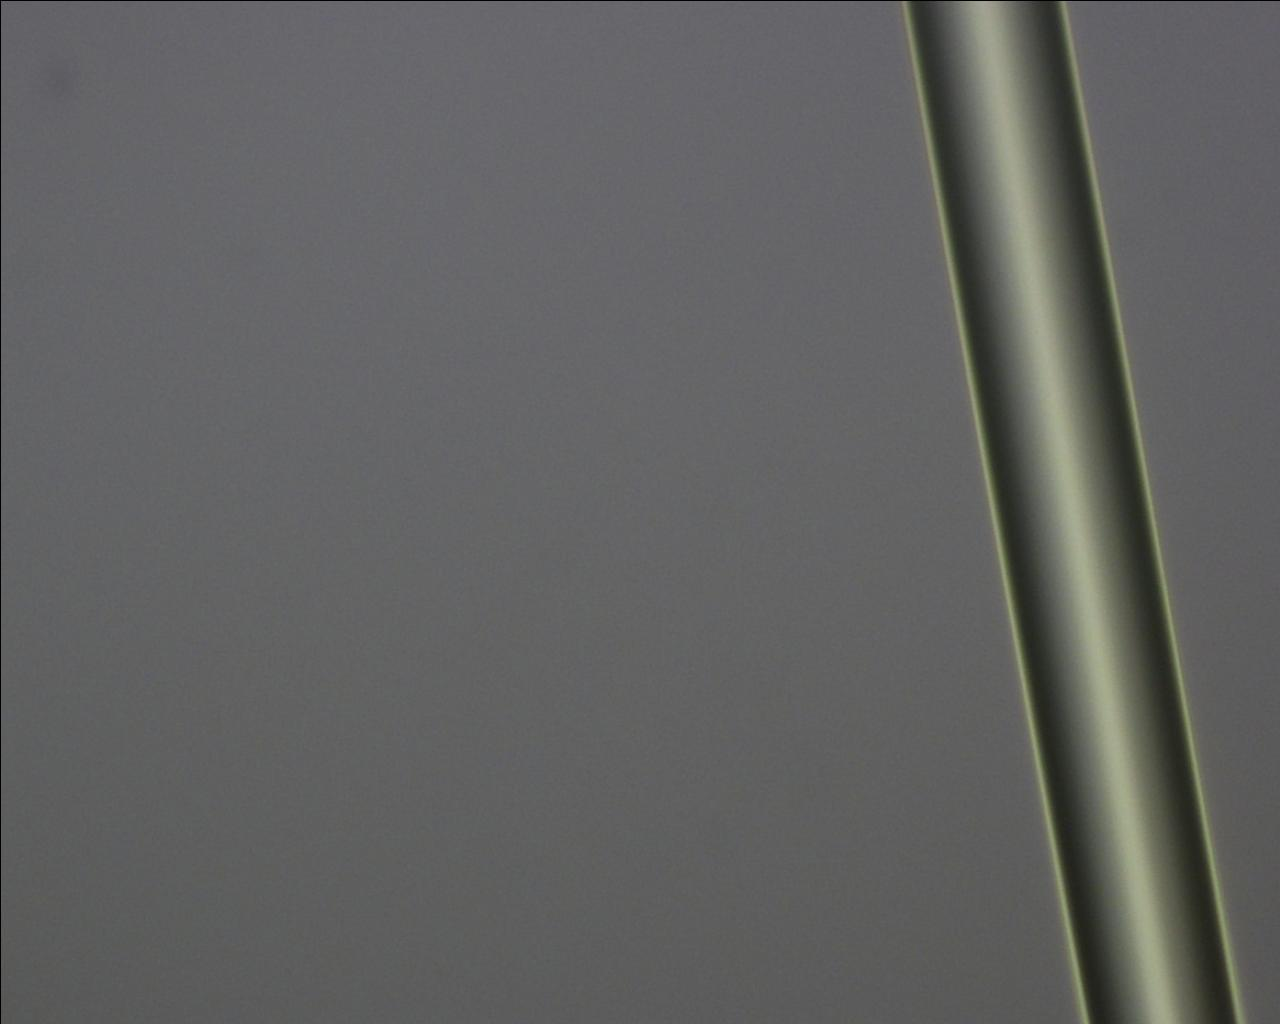fiber: (435, 696, 1205, 876), (1161, 0, 1280, 460)
